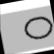no answer: (18, 11, 54, 44)
